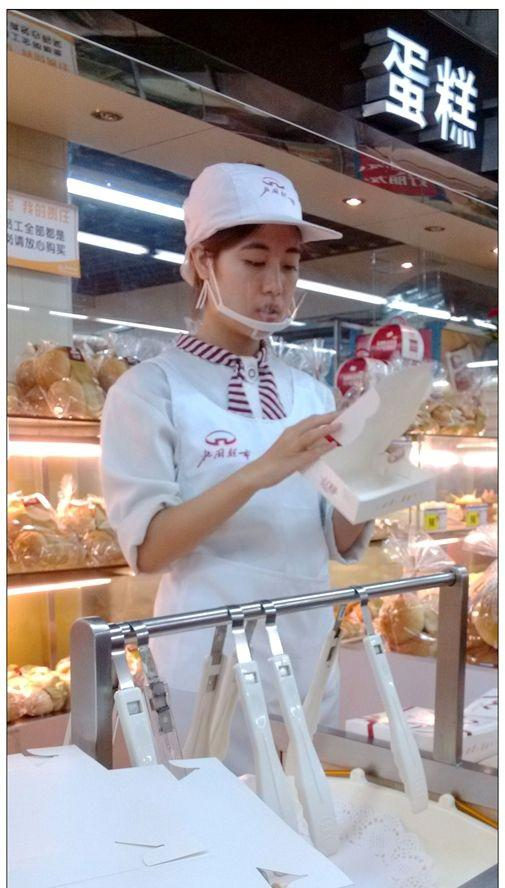WRONG: (205, 242, 301, 338)
